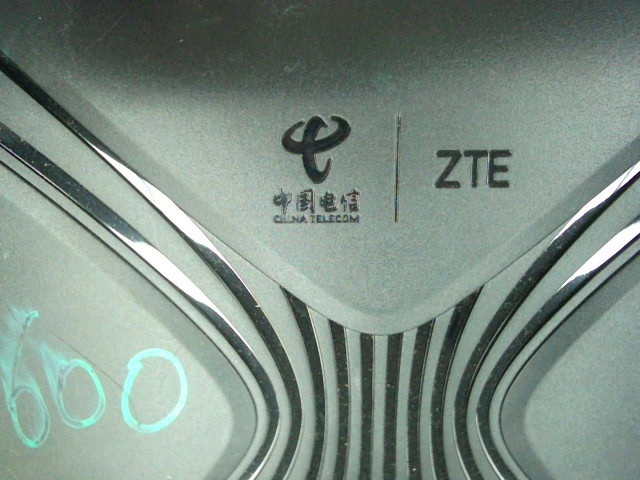AX_ZTEChinaTelecom: (250, 111, 515, 228)
